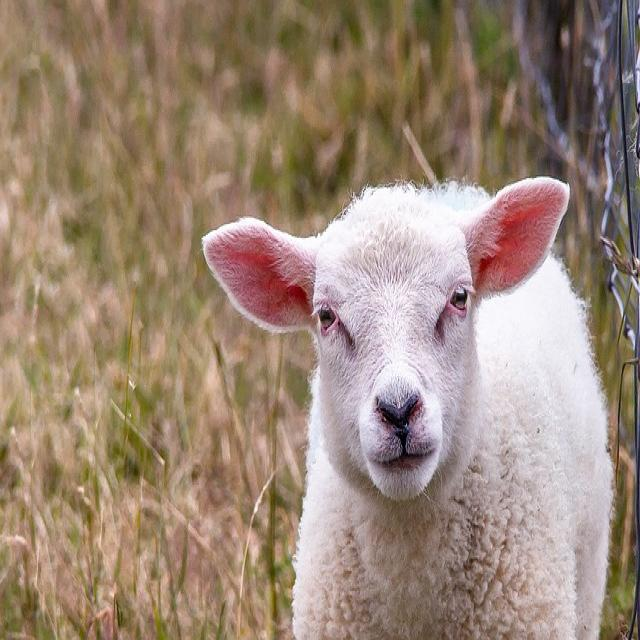goat: (204, 178, 610, 637)
